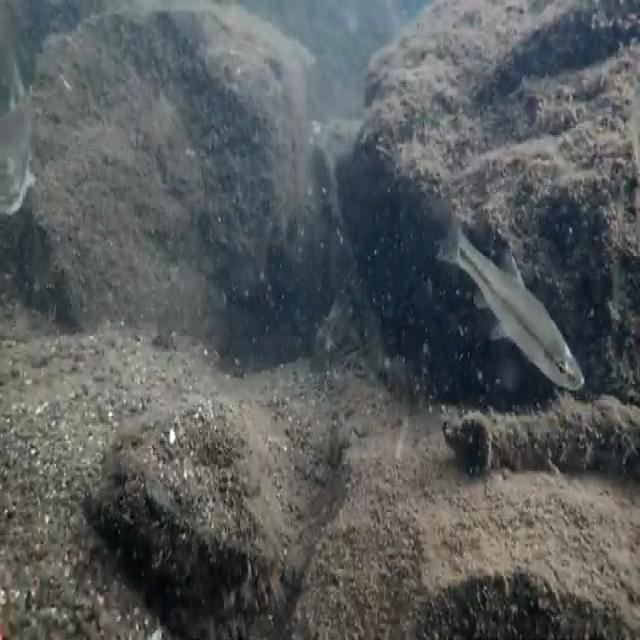Cakil Baligi: (435, 200, 588, 398)
